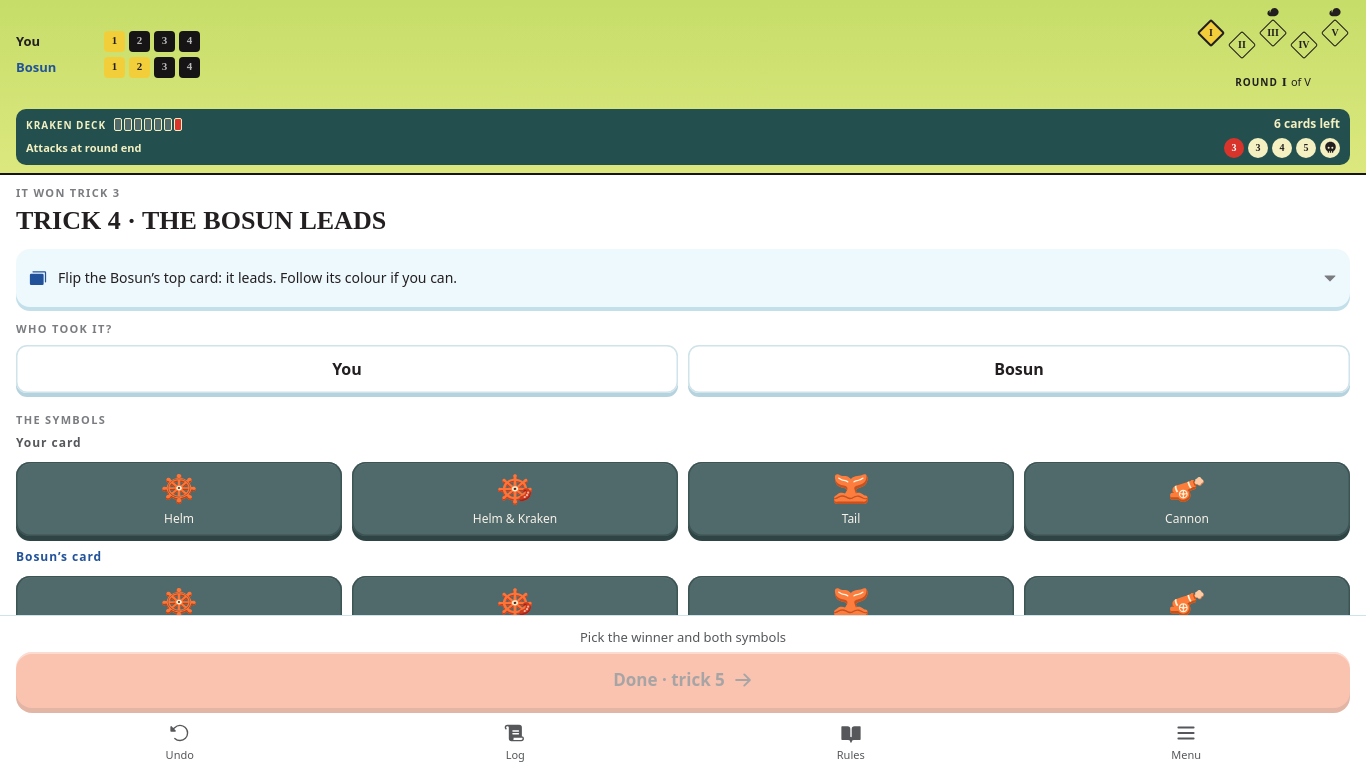
Test: a trick (C2–C4) › opens the how-to the first time each side leads in a round, folded after
Expected: the heading reads "TRICK 4 · THE BOSUN LEADS", [16,206,386,235]
Click the button with aria-label "HOW THE BOSUN LEADS" at (258, 278), box [16,250,1350,308]
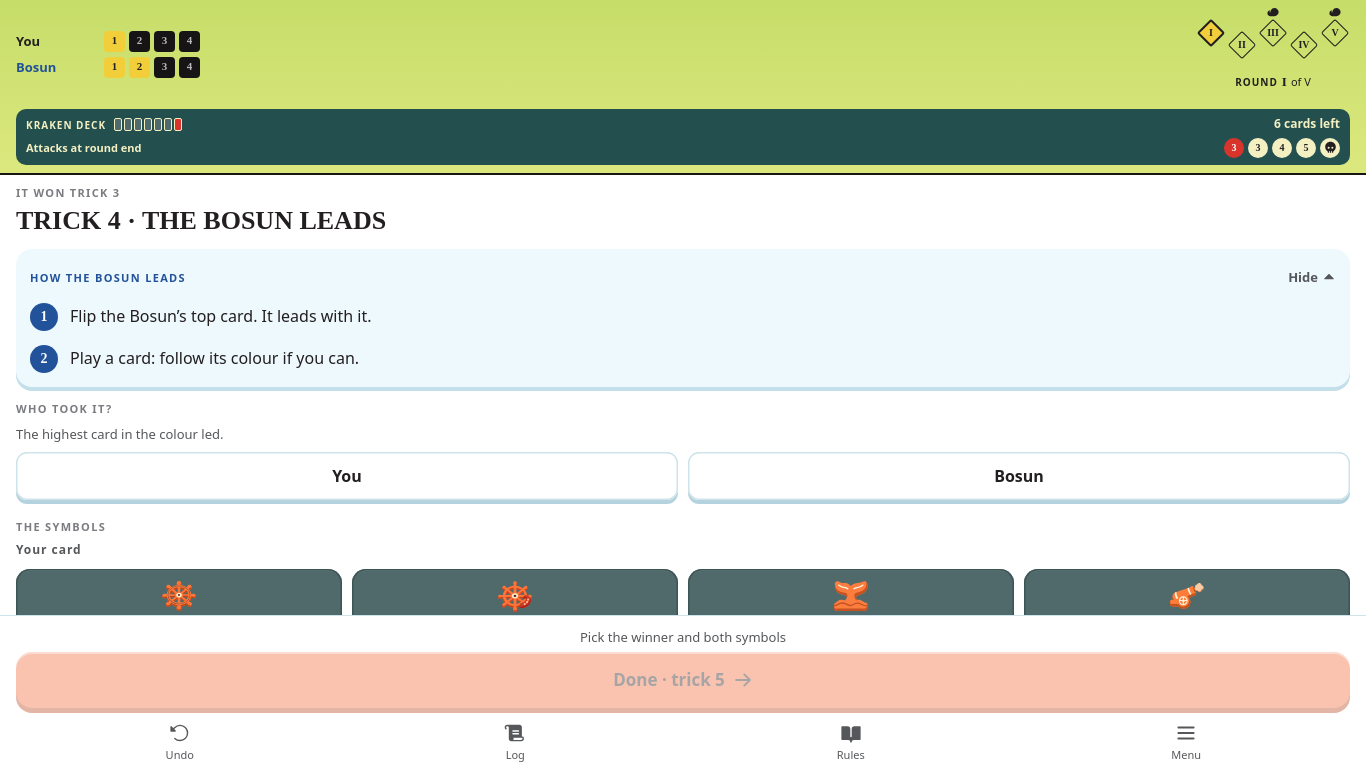
Expected: the heading "HOW THE BOSUN LEADS" is shown, [30,270,186,285]
